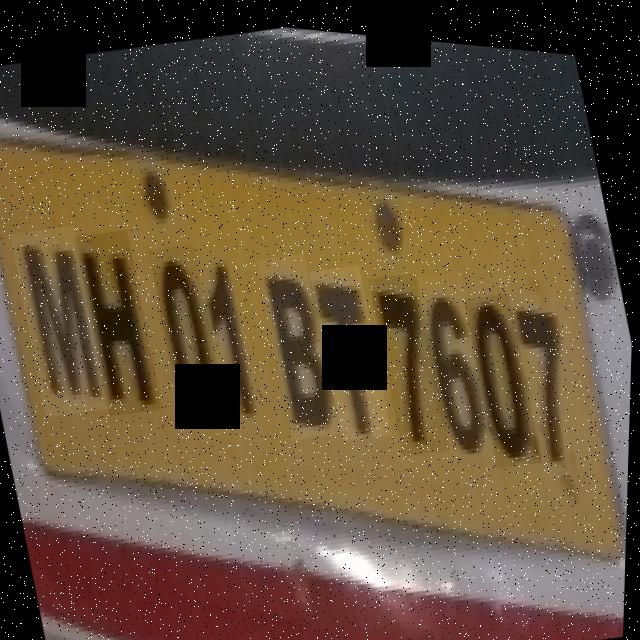0: (146, 236, 234, 425), (461, 279, 548, 461)
1: (191, 251, 272, 421)
6: (414, 259, 504, 455)
7: (507, 275, 605, 472), (365, 260, 457, 451)
B: (253, 244, 346, 438)
H: (71, 222, 168, 417)
M: (7, 219, 117, 421)
T: (307, 253, 398, 437)
